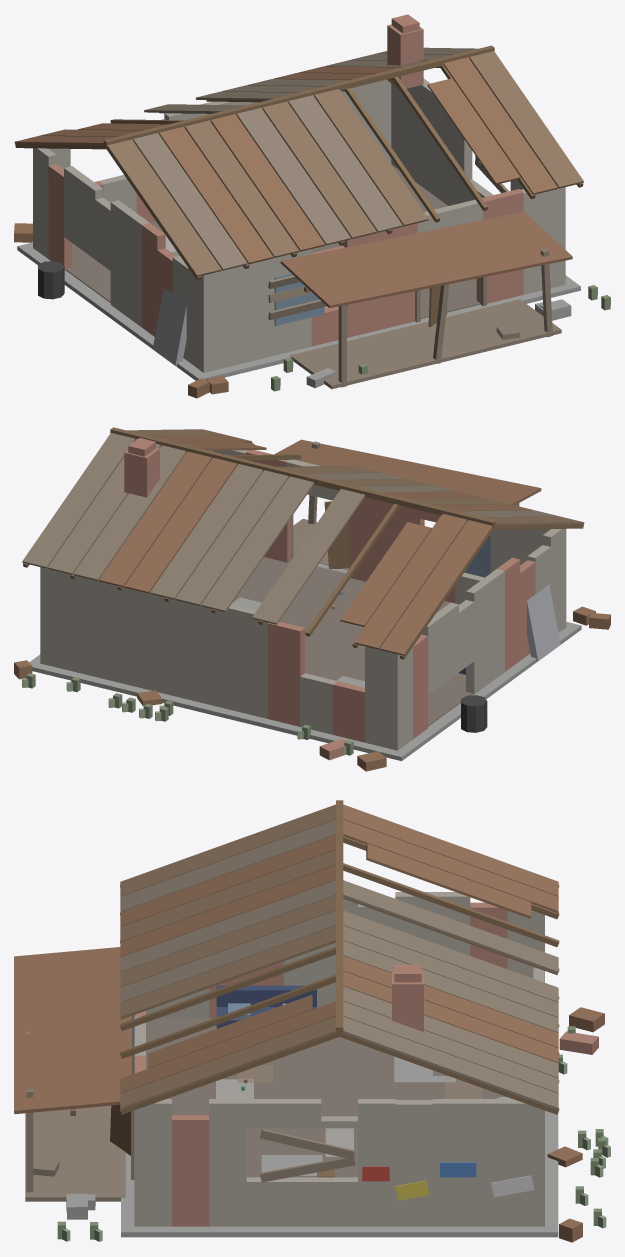
The model's file is Ev_Harabe.glb.
3 views of the same model, one above another, from view 1: azimuth 30°, elevation 25°; view 2: azimuth 150°, elevation 25°; view 3: azimuth 270°, elevation 25° (orthographic). The views are drawn at different scales.
Visible parts, largest first — view 1: Ev_Harabe; view 2: Ev_Harabe; view 3: Ev_Harabe.
Part boxes in pixels (box(x1,y1,x2,y2)): Ev_Harabe: box(14, 14, 610, 398); Ev_Harabe: box(14, 427, 610, 771); Ev_Harabe: box(14, 800, 610, 1242).
Size of the model in its own units: 12.79 by 5.75 by 13.1.
